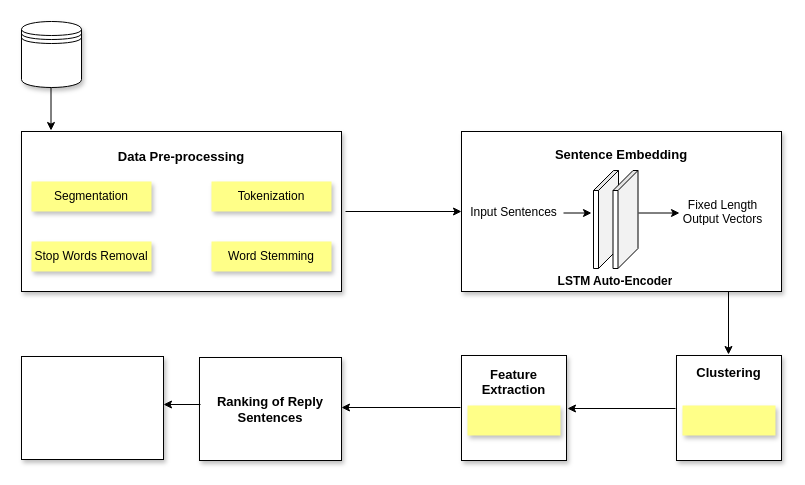
Image size: 805x485. Some labels were removed from this diagram. Each missing label, with the centre of its shape:
8 Features Extracted: (514,421)
Datasets: (52,55)
Final Extractive Summary Generation: (93,409)
Fuzzy C-Means: (729,421)
